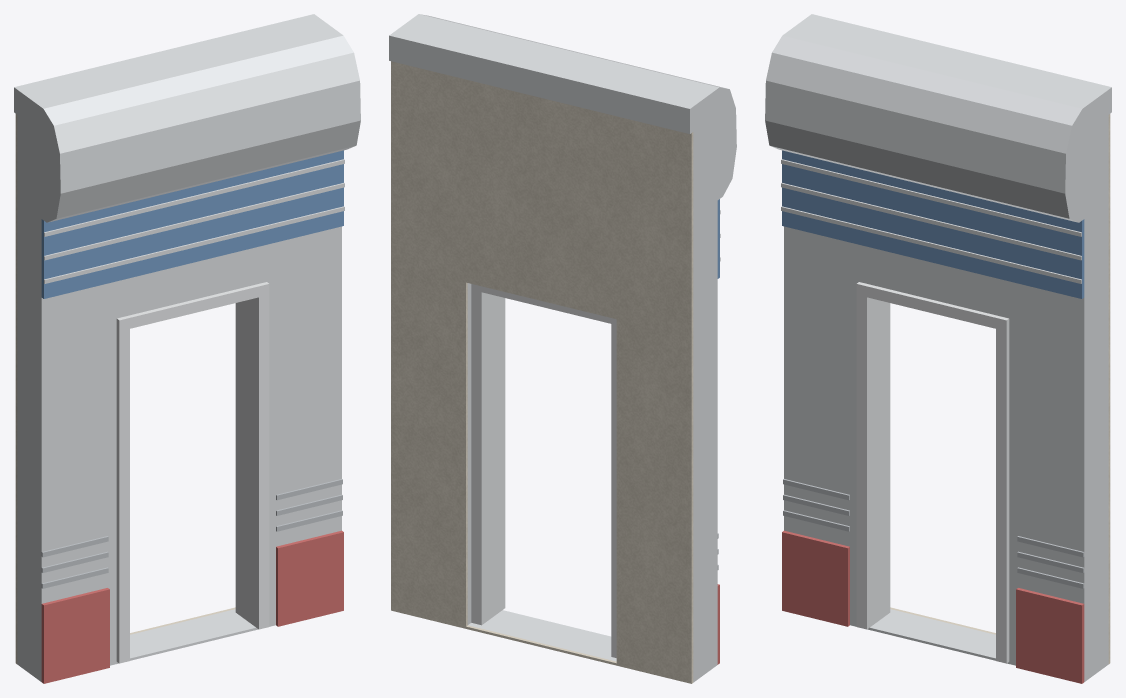
The model's file is wall_diner_service_door.glb.
The picture shows the model from 3 angles, left to right: view 1: azimuth 30°, elevation 25°; view 2: azimuth 150°, elevation 25°; view 3: azimuth 330°, elevation 25°; orthographic projection.
Visible parts, largest first — view 1: wall_diner_service_door_steel, wall_diner_service_door_enamel, wall_diner_service_door_frame, wall_diner_service_door_enamel_red, wall_diner_service_door_steel_dark, wall_diner_service_door_plaster; view 2: wall_diner_service_door_plaster, wall_diner_service_door_steel, wall_diner_service_door_frame; view 3: wall_diner_service_door_steel, wall_diner_service_door_enamel, wall_diner_service_door_frame, wall_diner_service_door_enamel_red, wall_diner_service_door_steel_dark, wall_diner_service_door_plaster.
Part boxes in pixels (x1,y1,x2,y2): wall_diner_service_door_steel: (14,14,360,681); wall_diner_service_door_enamel: (41,150,343,298); wall_diner_service_door_frame: (116,282,269,663); wall_diner_service_door_enamel_red: (41,530,343,683); wall_diner_service_door_steel_dark: (41,479,342,588); wall_diner_service_door_plaster: (15,114,235,663); wall_diner_service_door_plaster: (391,61,693,683); wall_diner_service_door_steel: (389,14,736,682); wall_diner_service_door_frame: (471,284,616,657); wall_diner_service_door_steel: (765,14,1111,681); wall_diner_service_door_enamel: (782,150,1084,298); wall_diner_service_door_frame: (856,282,1009,663); wall_diner_service_door_enamel_red: (782,530,1084,683); wall_diner_service_door_steel_dark: (783,479,1084,588); wall_diner_service_door_plaster: (890,114,1110,663).
Bounding box in the file's own units: 2 × 3.66 × 0.54.
Materials: 6 (1 with a texture image).
